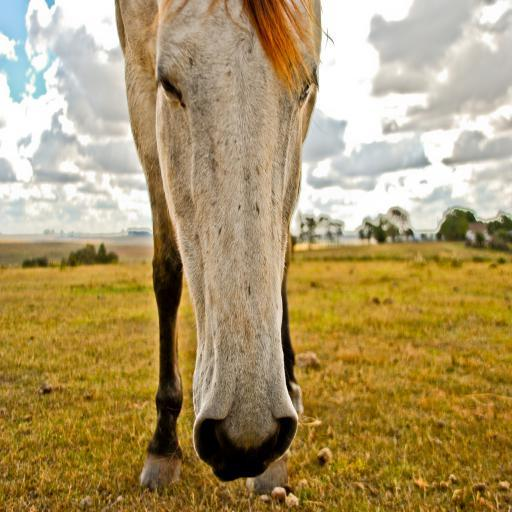Horse: (111, 0, 335, 497)
